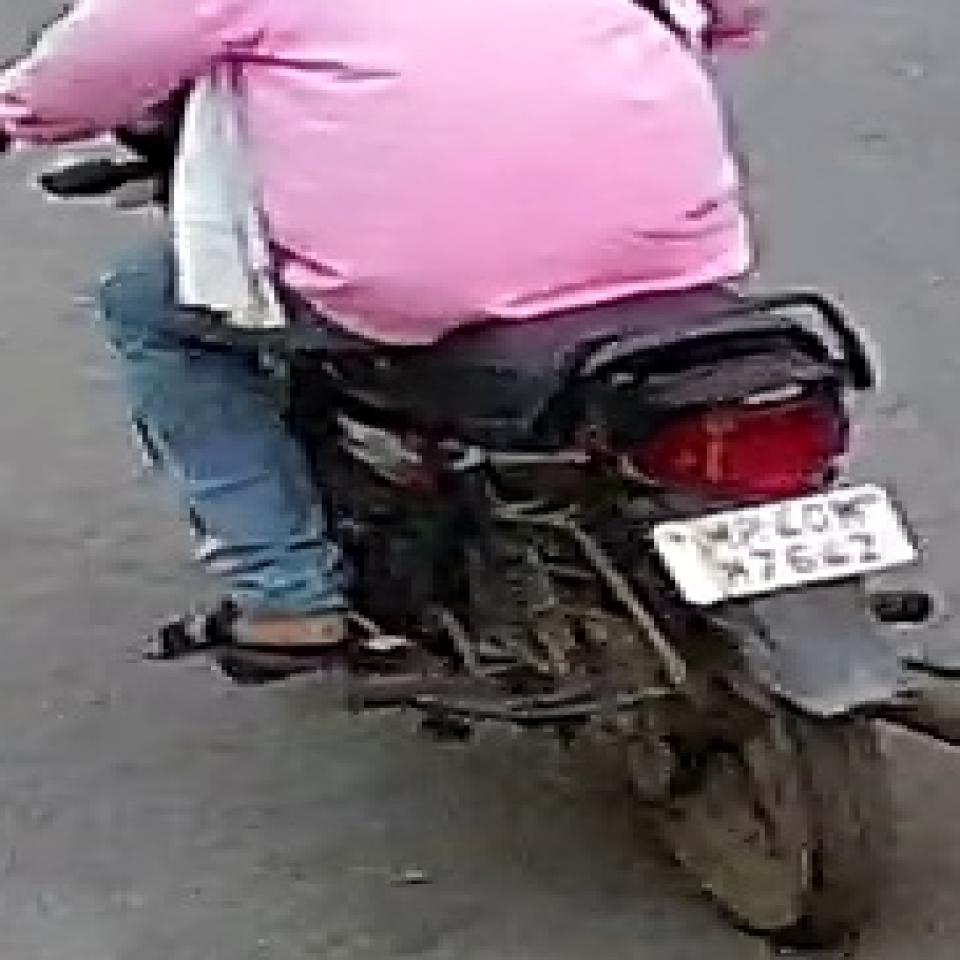tail_light: (645, 393, 867, 495)
